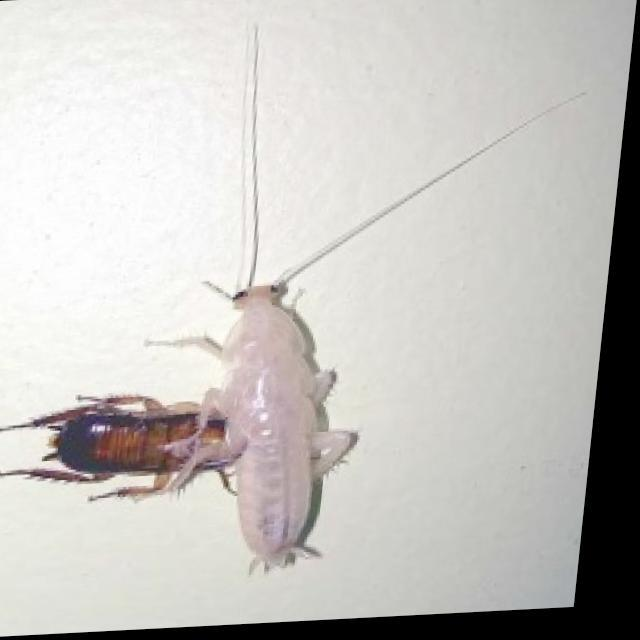cockroach: (207, 282, 333, 571), (12, 377, 267, 504)
